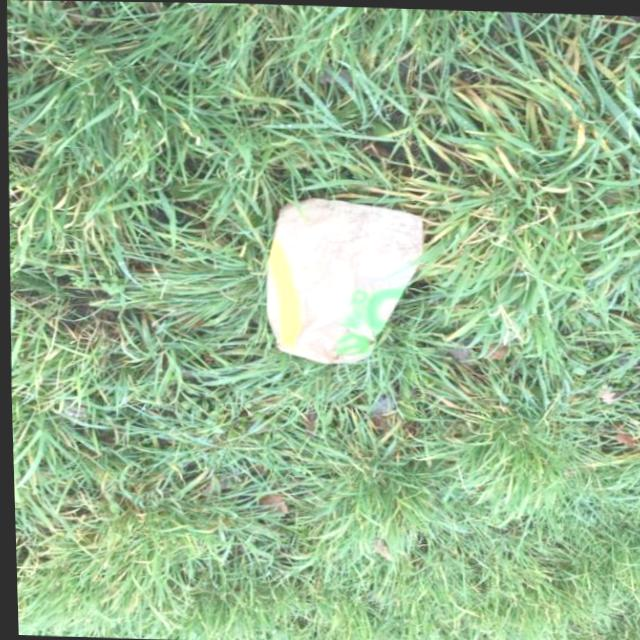Paper: (258, 193, 426, 366)
